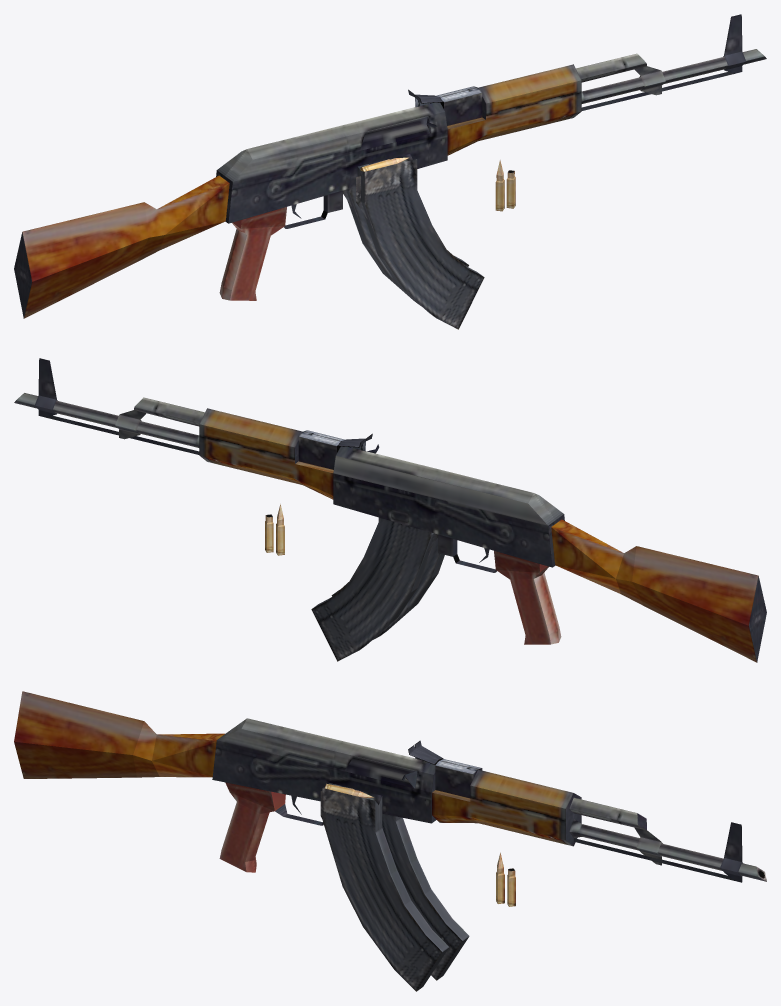
File: AKM.glb
The picture shows the model from 3 angles, top to bottom: view 1: azimuth 30°, elevation 25°; view 2: azimuth 150°, elevation 25°; view 3: azimuth 330°, elevation 25°; orthographic projection.
Visible parts, largest first — view 1: AKM, AKM_Mag_Full, AKM_Mag_Empty; view 2: AKM, AKM_Mag_Empty, AKM_Mag_Full; view 3: AKM, AKM_Mag_Full, AKM_Mag_Empty.
Part boxes in pixels (x1=…): AKM: x1=14, y1=14, x2=766, y2=318; AKM_Mag_Full: x1=356, y1=154, x2=484, y2=329; AKM_Mag_Empty: x1=343, y1=187, x2=468, y2=305; AKM: x1=14, y1=358, x2=766, y2=662; AKM_Mag_Empty: x1=311, y1=517, x2=437, y2=661; AKM_Mag_Full: x1=331, y1=538, x2=444, y2=639; AKM: x1=14, y1=691, x2=766, y2=882; AKM_Mag_Full: x1=320, y1=783, x2=448, y2=991; AKM_Mag_Empty: x1=382, y1=813, x2=469, y2=980.
Bounding box in the file's own units: 4.48 × 1.31 × 0.3148.
2 materials, 2 textured.
